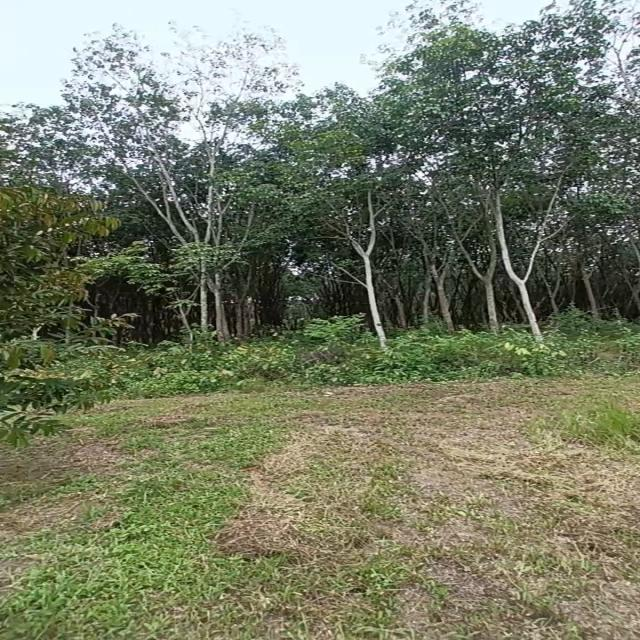Tree: (0, 154, 94, 359)
